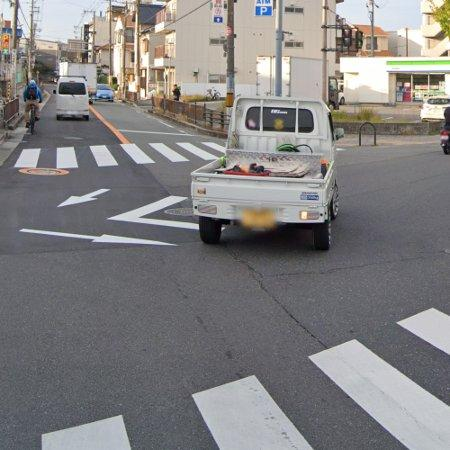crosswalks: (3, 138, 225, 173)
